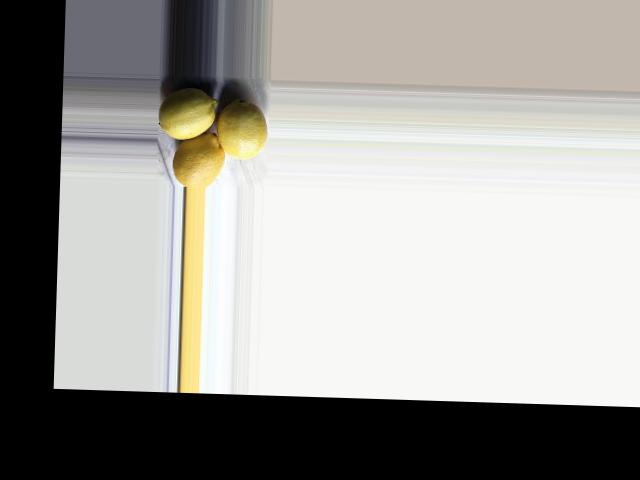lemon: (219, 94, 268, 160)
